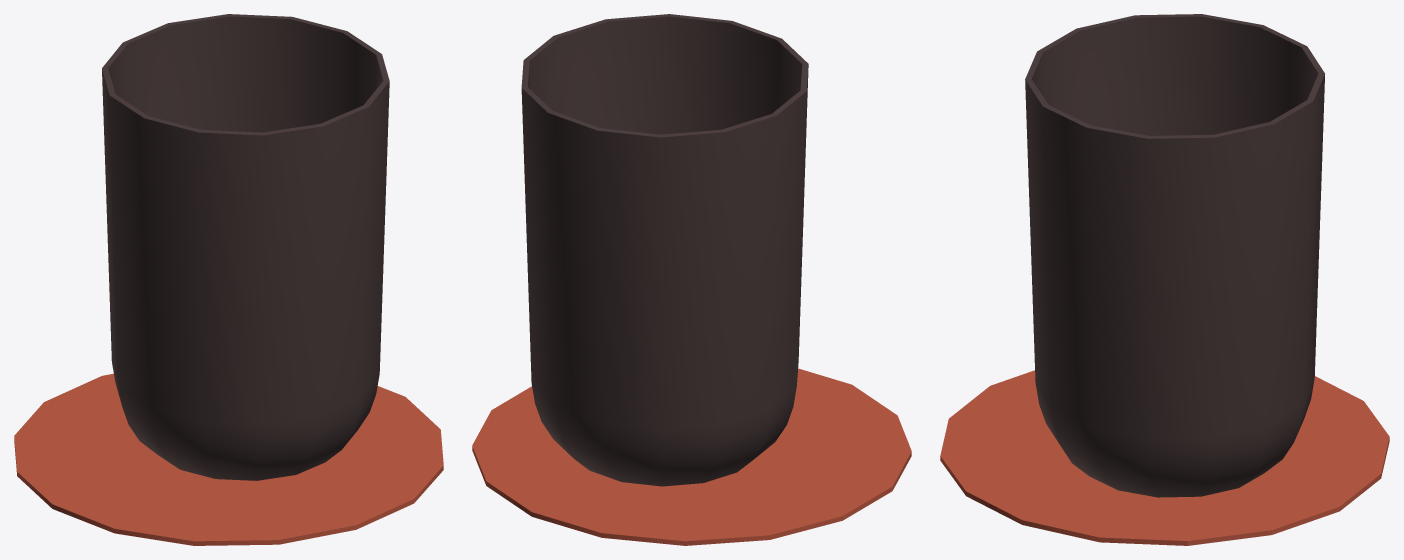
The model's file is FI_055_empty_mug.glb.
3 renders of one model, left to right at view 1: azimuth 30°, elevation 25°; view 2: azimuth 150°, elevation 25°; view 3: azimuth 270°, elevation 25°, orthographic. The views are drawn at different scales.
Parts seen in each view (by area): view 1: empty_mug; view 2: empty_mug; view 3: empty_mug.
Boxes of the visible parts, bbox=[...] form: empty_mug: bbox=[14, 14, 443, 545]; empty_mug: bbox=[472, 14, 911, 545]; empty_mug: bbox=[940, 14, 1389, 545].
Size of the model in its own units: 0.2736 by 0.2592 by 0.2736.
